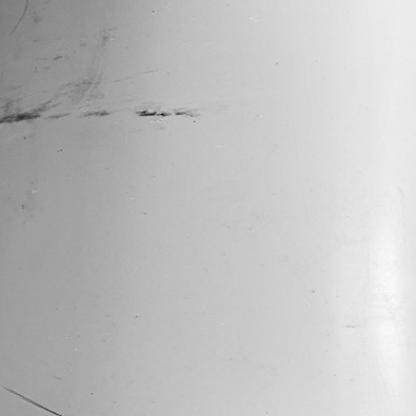sunshang: (1, 382, 63, 414), (9, 1, 36, 36)
